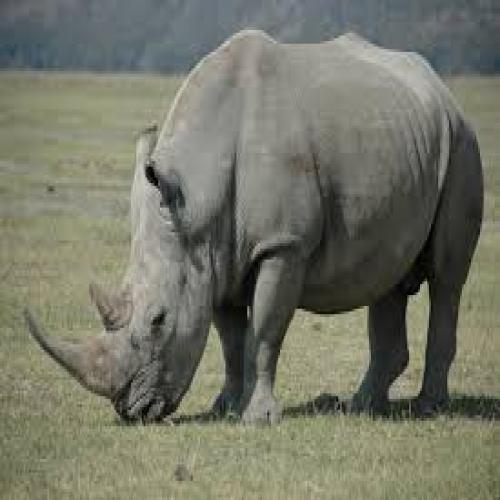rhino-endangered: (53, 35, 482, 419)
